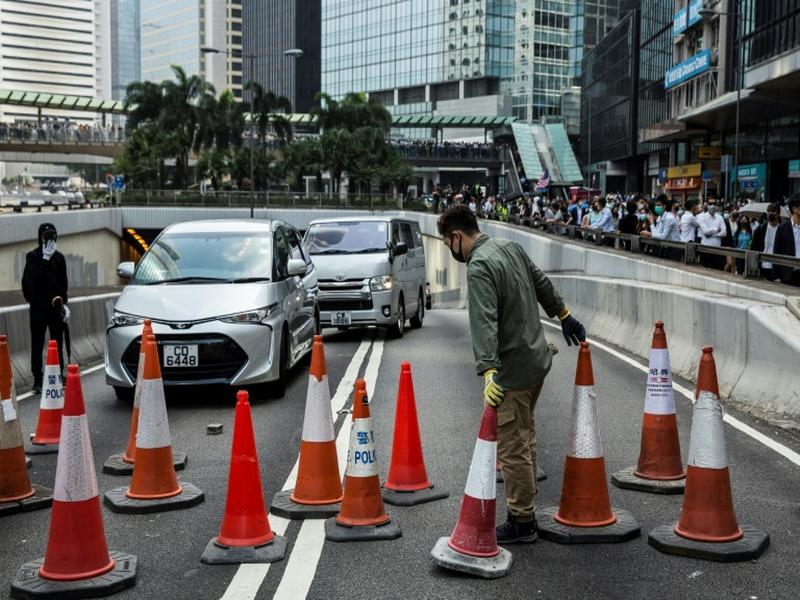Cone: (198, 389, 287, 564), (380, 360, 449, 507)
